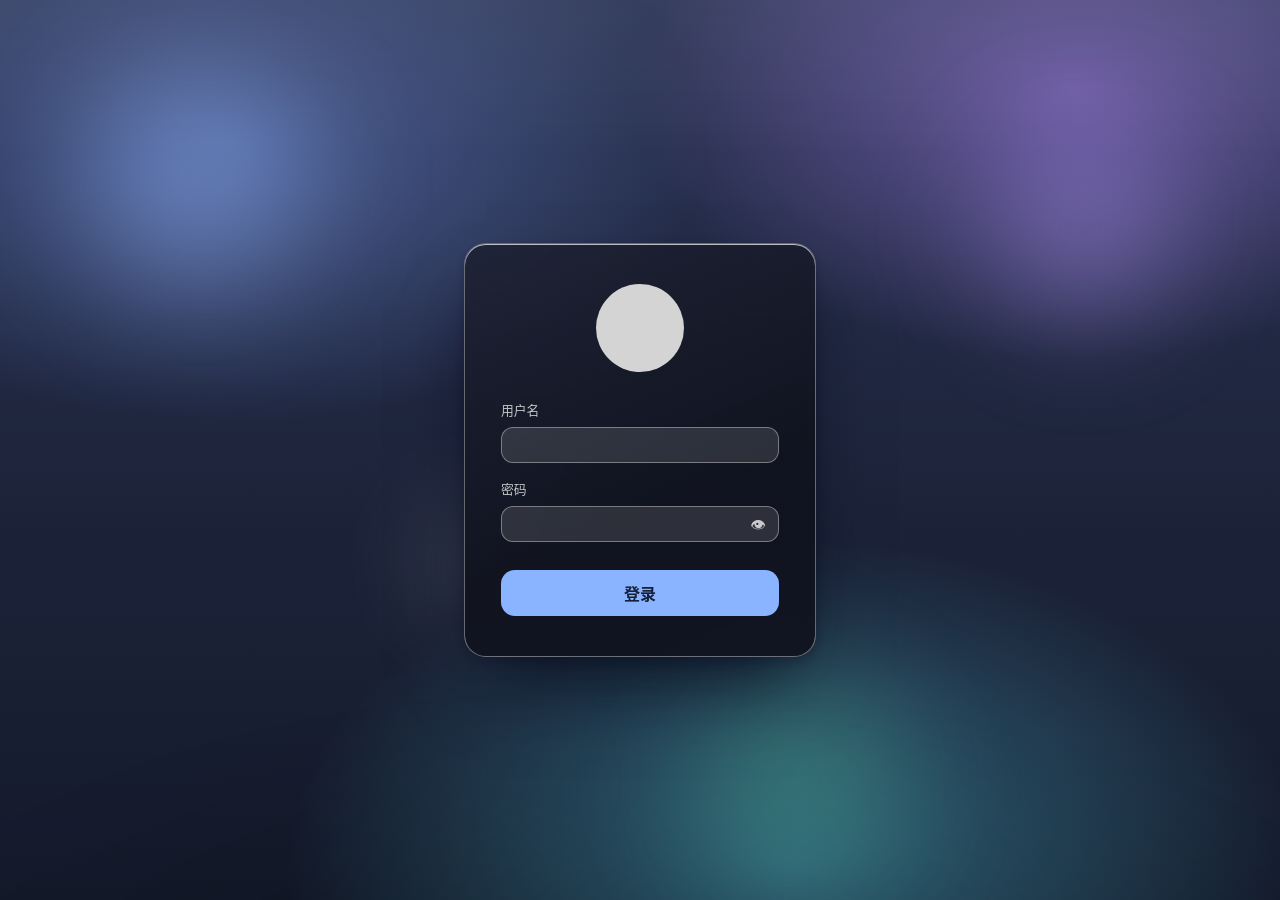
it: Login.vue › blocks submit and shows error when fields invalid
What coordinates should you click on to do the following:
click the button with class "login-submit"
I would click on:
 (640, 593)
Its box is [501,570,779,616].
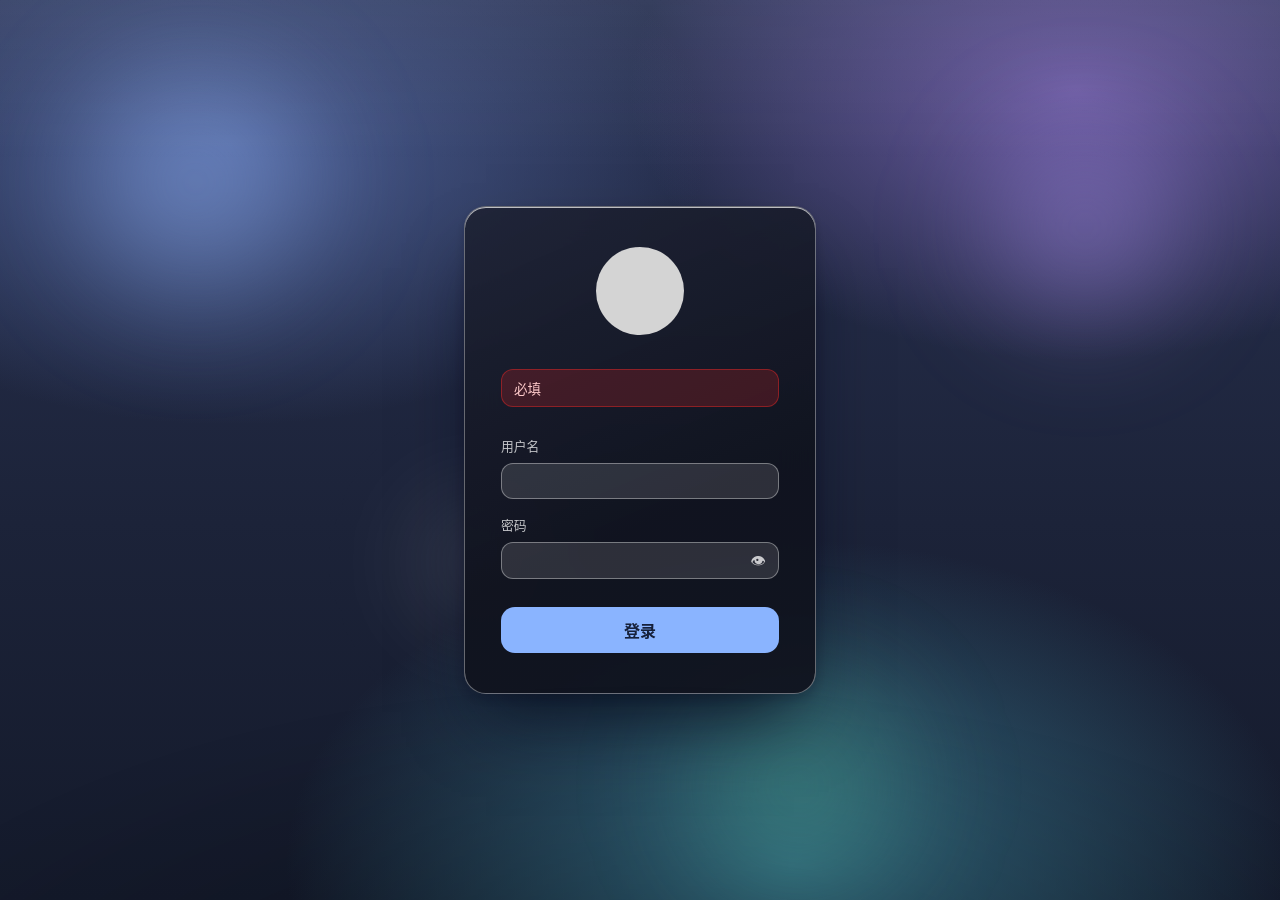
expect the text "必填" is shown: met, box [501,369,779,407]
